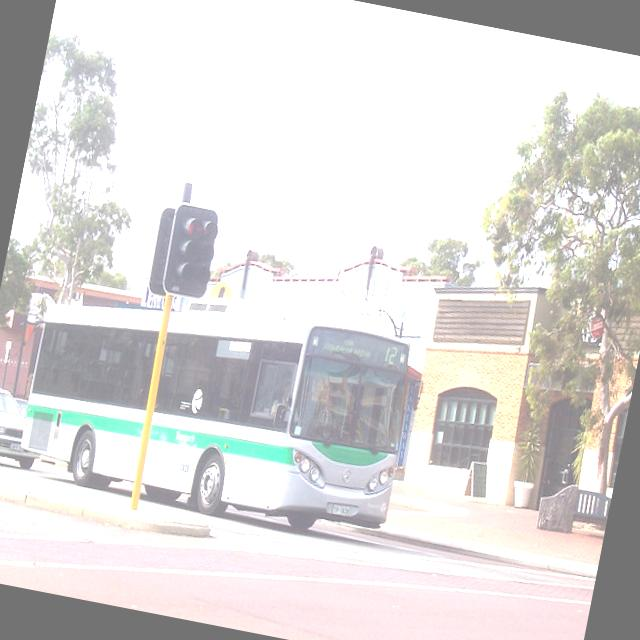Vehicle: (9, 260, 426, 554), (0, 385, 52, 474)
